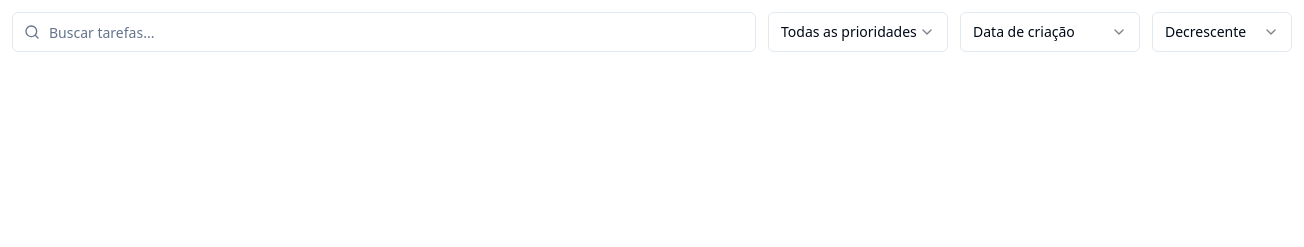
Test: TaskFilters › should display all priority options
Click the dropdown "Todas as prioridades". click: (858, 32)
box: [768,12,948,52]
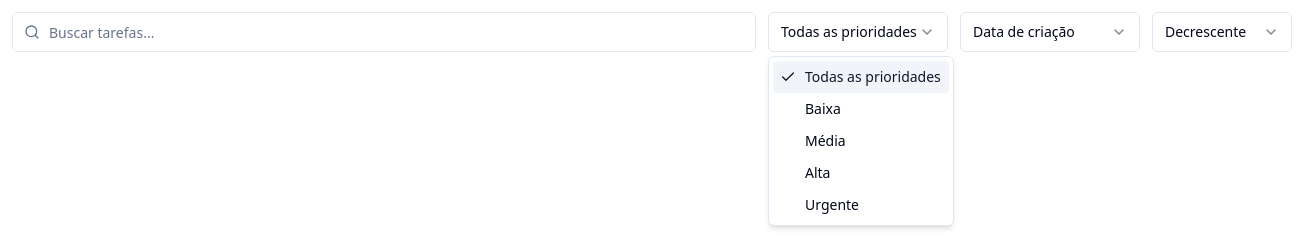
Now the text "Baixa" is shown, box [805,99,841,119]
Now the text "Média" is shown, box [805,131,846,151]
Now the text "Alta" is shown, box [805,163,830,183]
